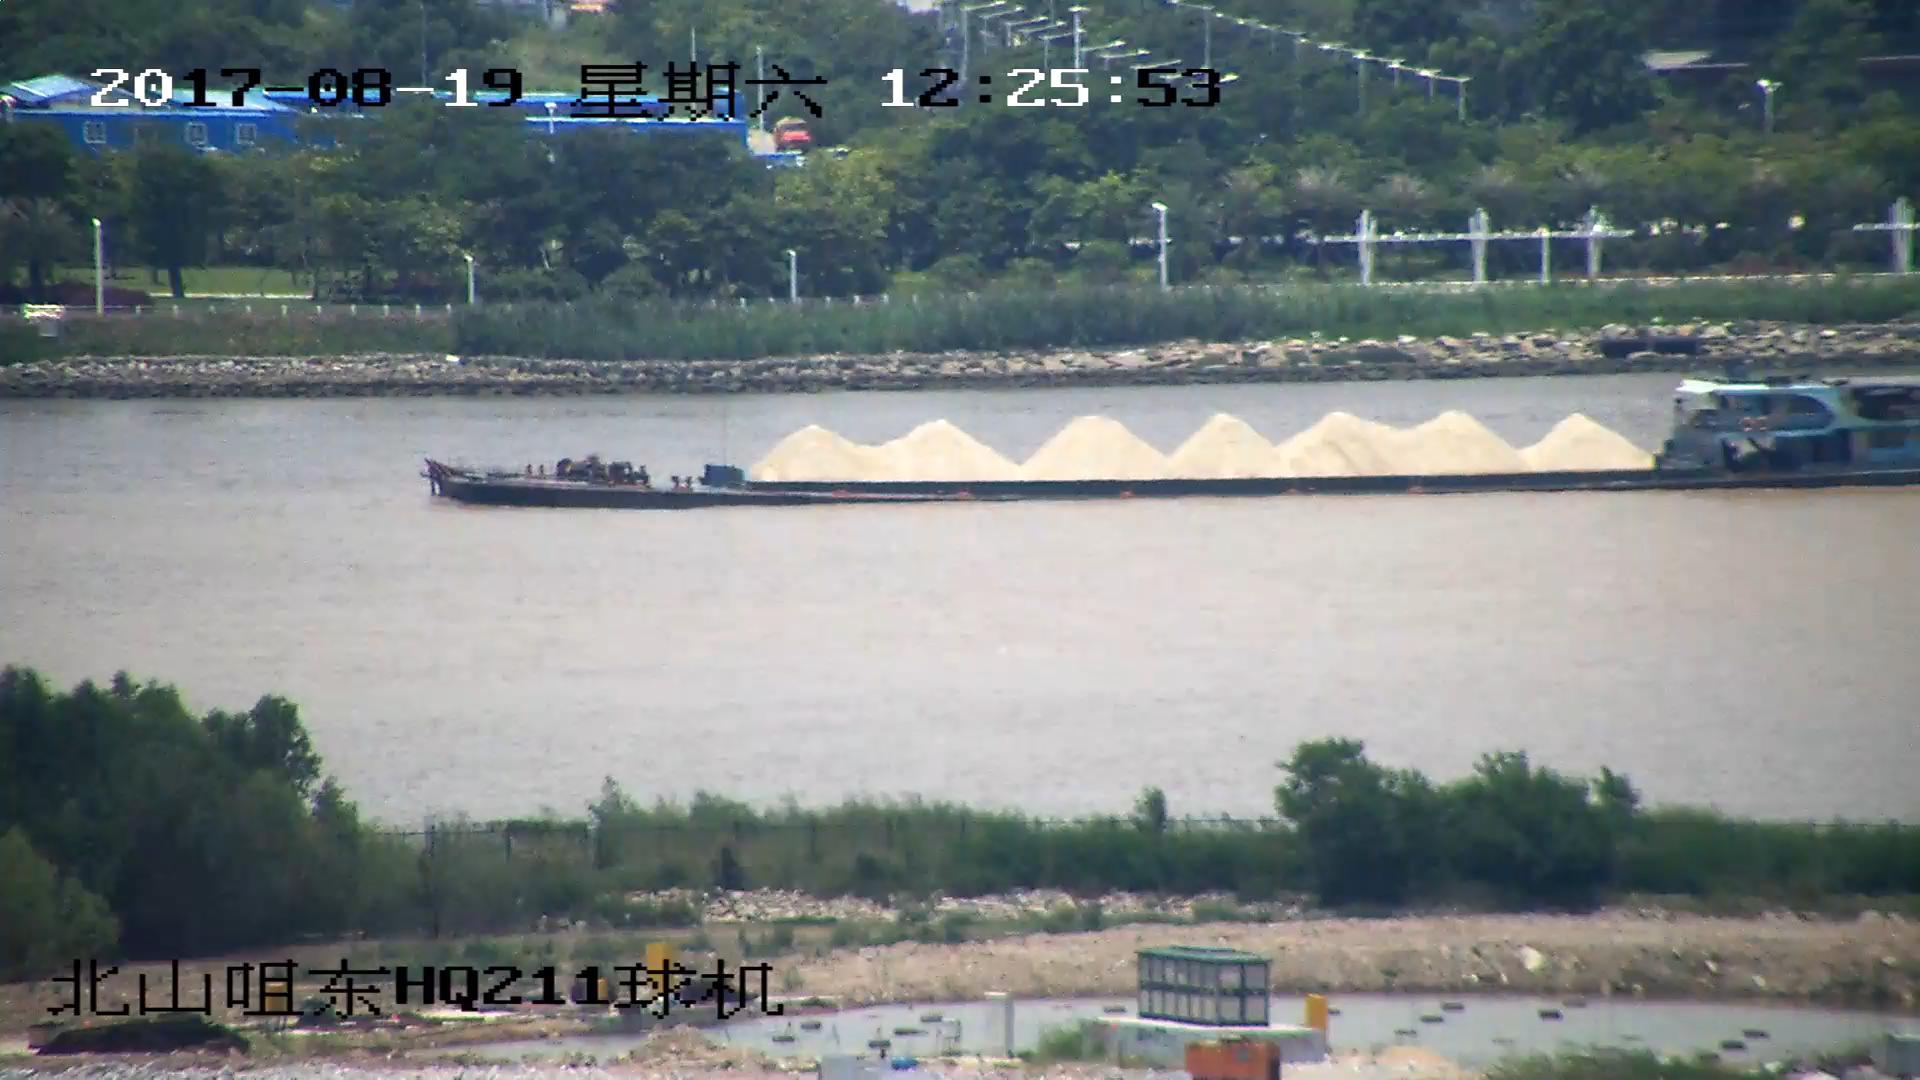Ship: (425, 381, 1920, 512)
